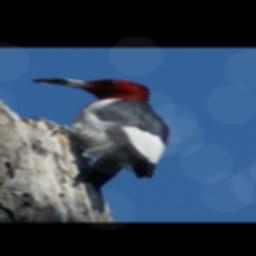Woodpecker: (34, 77, 171, 214)
